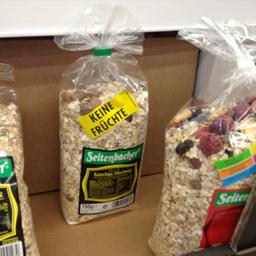cereal: (145, 100, 254, 254), (57, 49, 146, 225)
